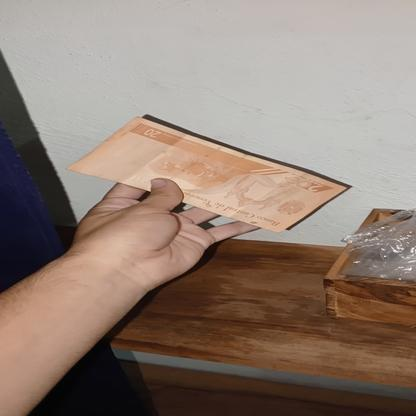twenty-back-vef: (64, 115, 350, 233)
